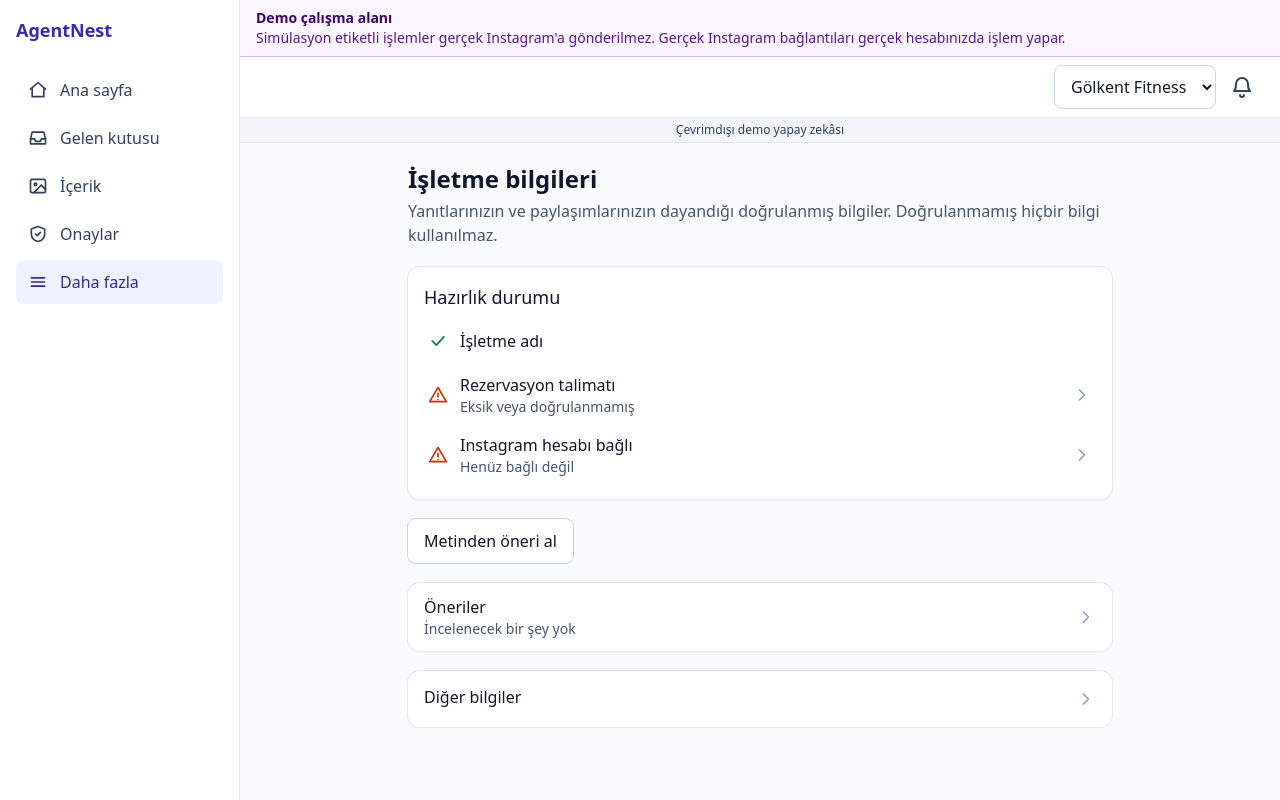
paste and extract › shows a validation error and keeps the text when the request is refused
Click the button with test id "open-paste-extract".
click(490, 541)  # box [408,519,573,563]
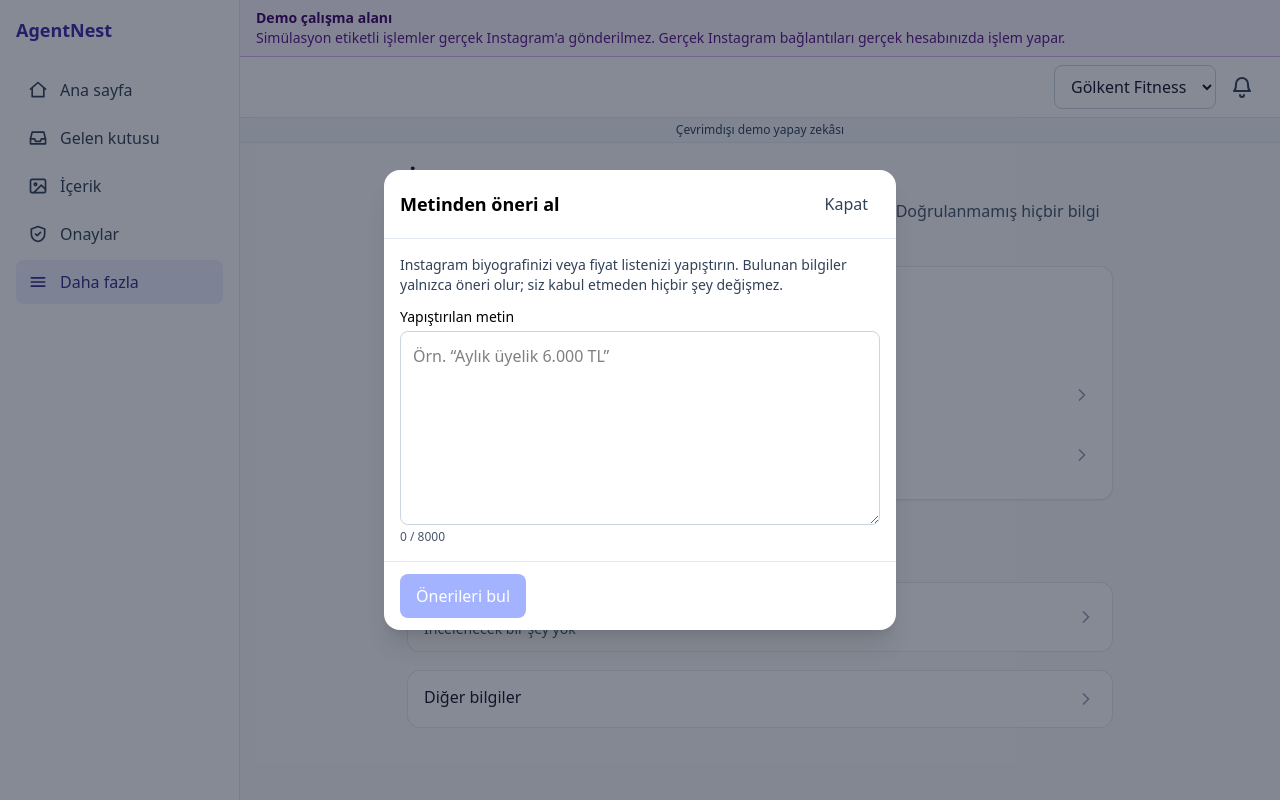
Click the text box labelled "Yapıştırılan metin".
click(640, 428)  # box [400,331,880,525]
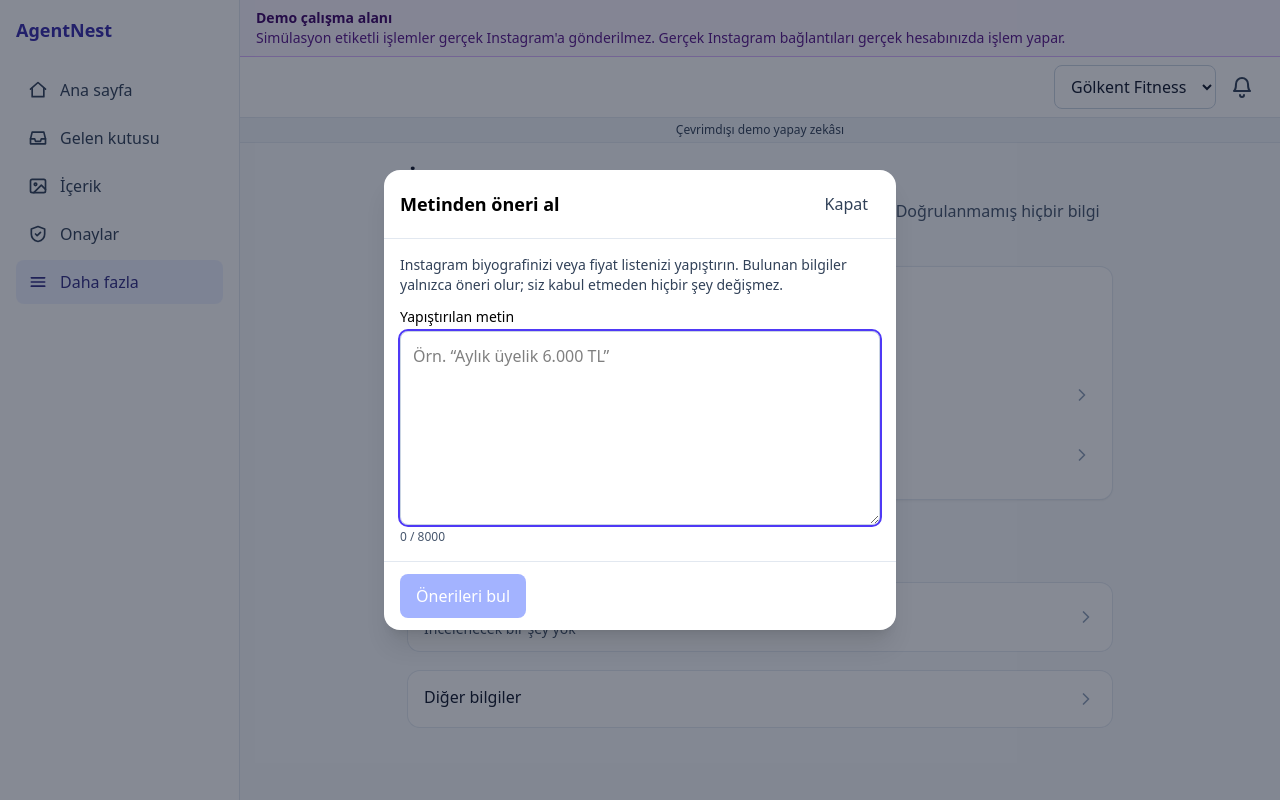
Type keys "x"
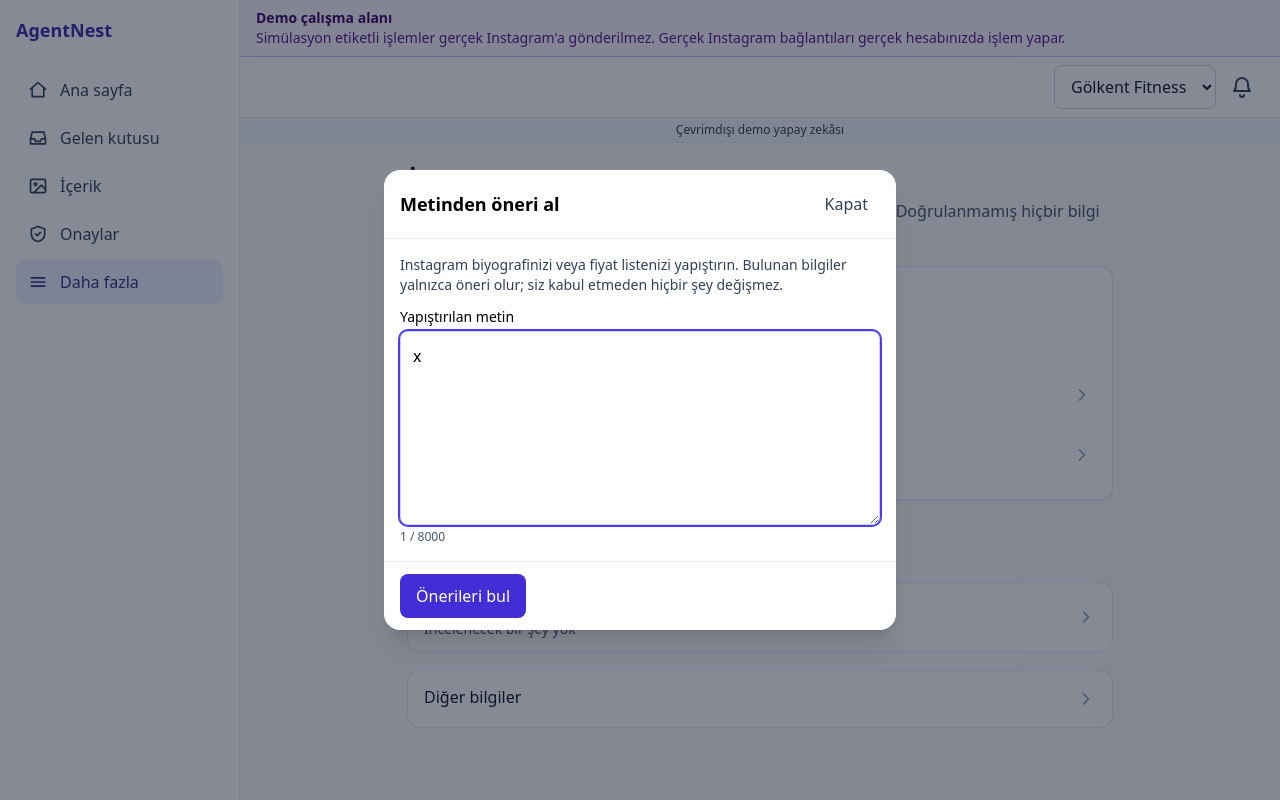
Click the button "Önerileri bul".
click(463, 596)  # box [400,574,526,618]
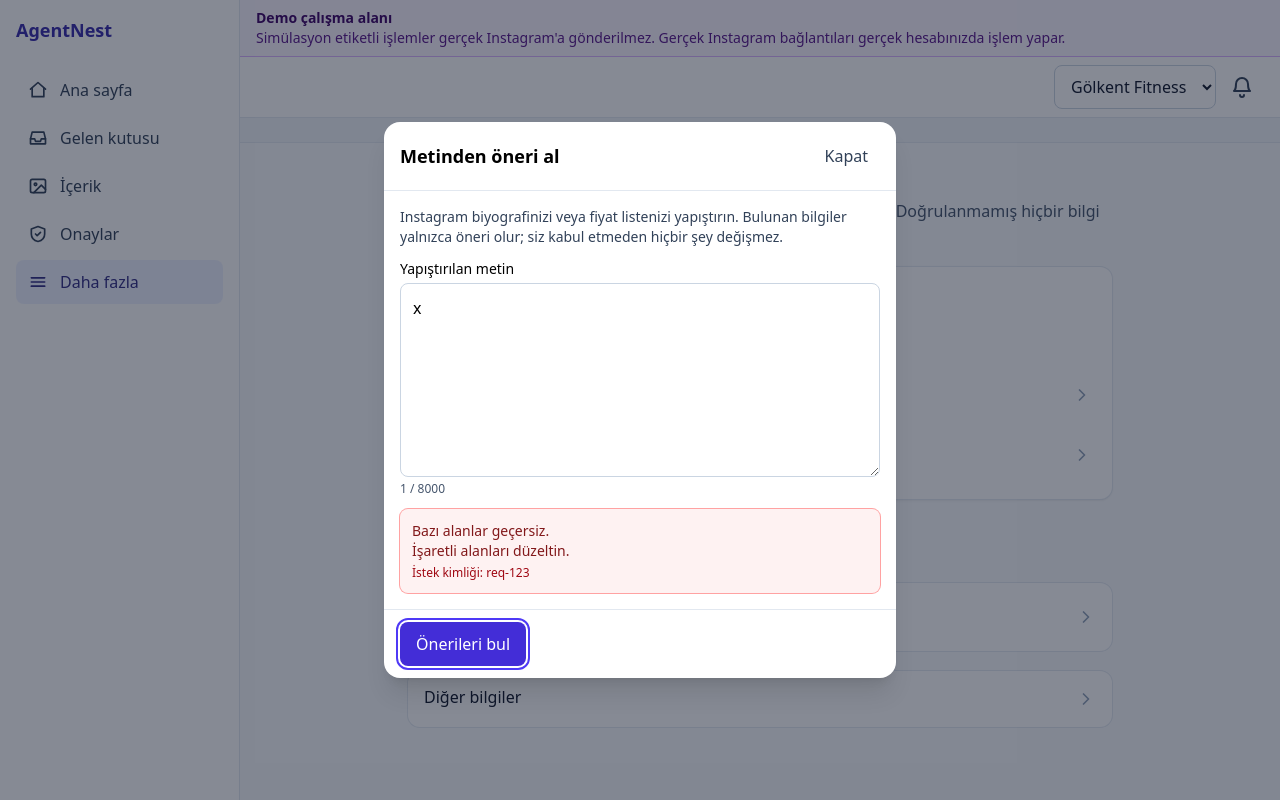
Now the text box labelled "Yapıştırılan metin" holds "x", box [400,283,880,477]
Now the message "Bazı alanlar geçersiz. İşaretli alanları düzeltin. İstek kimliği: req-123" is shown, box [400,509,880,593]
